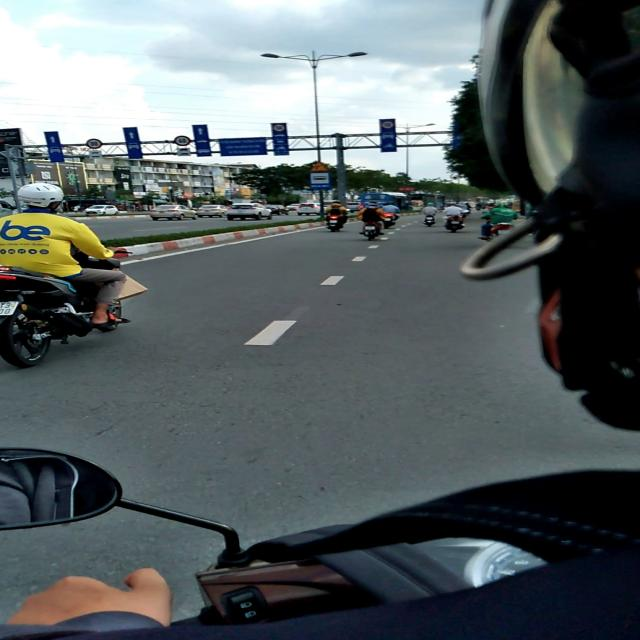Ben xe buyt: (309, 173, 331, 189)
Nguy hiem: (309, 160, 329, 172)
Toc do toi da: (85, 138, 104, 149), (174, 136, 191, 146), (380, 120, 395, 130), (272, 124, 286, 132)
